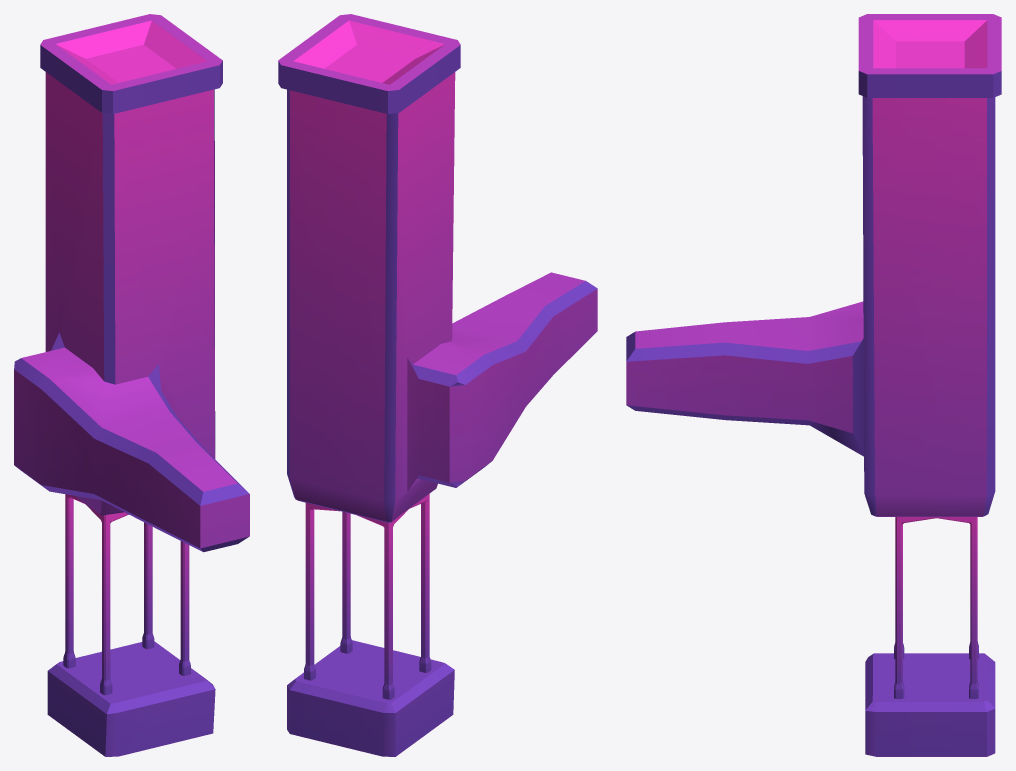
The model's file is buildo.fbx.
3 renders of one model, left to right at view 1: azimuth 30°, elevation 25°; view 2: azimuth 150°, elevation 25°; view 3: azimuth 270°, elevation 25°, orthographic. The views are drawn at different scales.
Parts seen in each view (by area): view 1: building_10, s_42, s_40; view 2: building_10, s_40, s_42; view 3: building_10, s_42, s_40.
Part boxes in pixels (x1,y1,x2,y2): building_10: (14, 14, 249, 756); s_42: (85, 504, 190, 695); s_40: (63, 494, 154, 668); building_10: (278, 14, 597, 756); s_40: (304, 503, 409, 699); s_42: (340, 494, 431, 672); building_10: (626, 14, 1001, 756); s_42: (894, 517, 936, 698); s_40: (934, 517, 978, 698).
Size of the model in its own units: 76 by 291 by 144.
